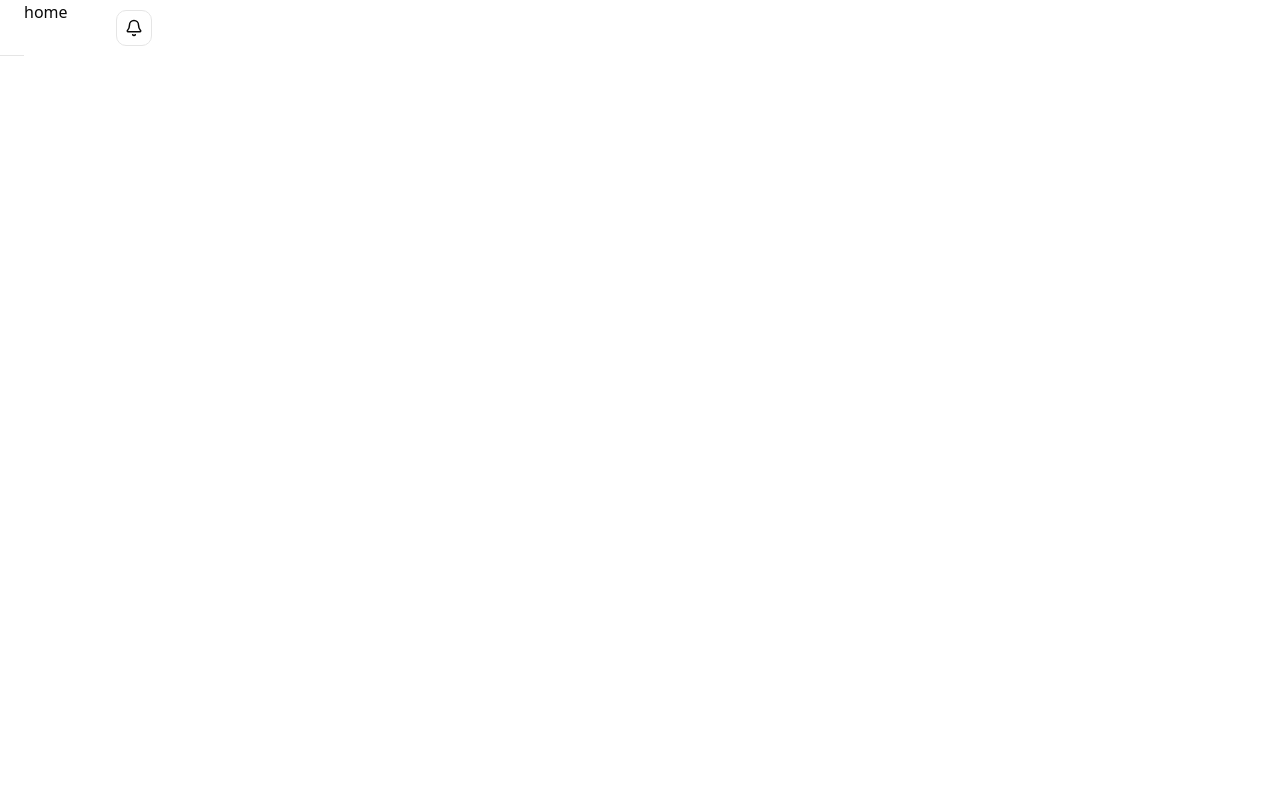
Test: the bell › says so when there is nothing, with what would be told here
The width and height of the screenshot is (1280, 800).
Press the mouse on the button named "通知" at (134, 28), box [116,10,152,46]
Click the button named "通知" at (134, 28), box [116,10,152,46]
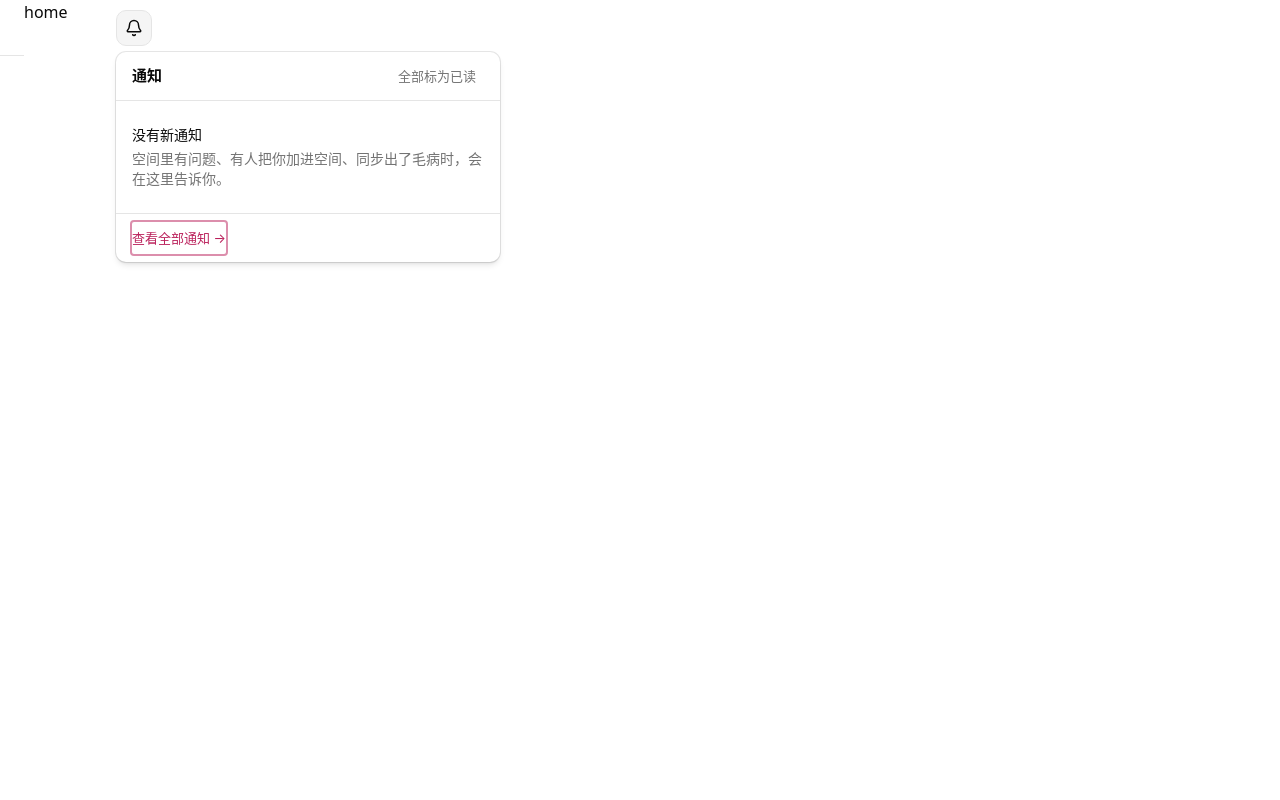
Expected: the element showing "通知 全部标为已读 没有新通知 空间里有问题、有人把你加进空间、同步出了毛病时，会在这里告诉你。 查看全部通知 →" is shown, [116,52,500,262]
